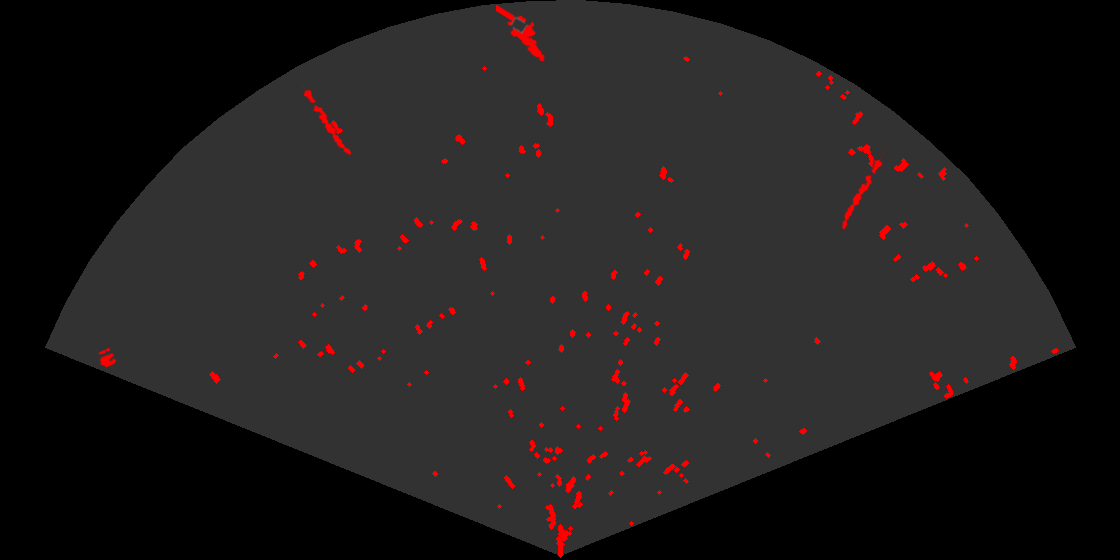ball: (96, 346, 118, 369)
chain: (840, 150, 888, 231), (300, 85, 353, 157)
frogman: (496, 5, 547, 63)
